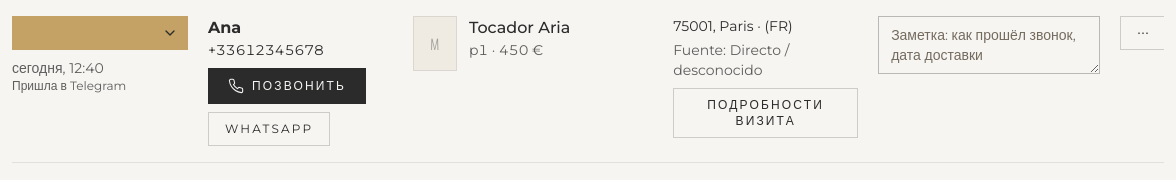
OrderRow — the owner’s note › saves on leaving the field
This screenshot has width=1176, height=180.
Type "перезвонить после 18:00" into the text box named "Заметка к заявке от Ana" at (989, 45), box [878,16,1100,74]
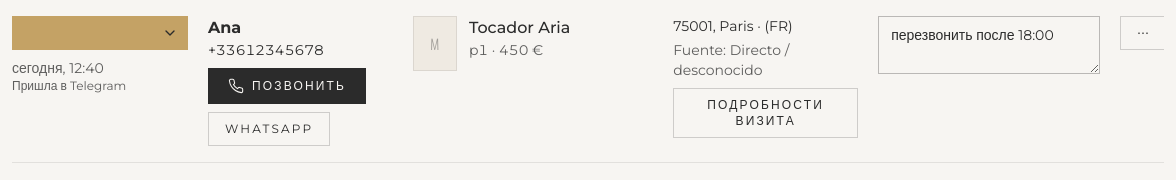
Leave the text box named "Заметка к заявке от Ana", box [878,16,1100,74]
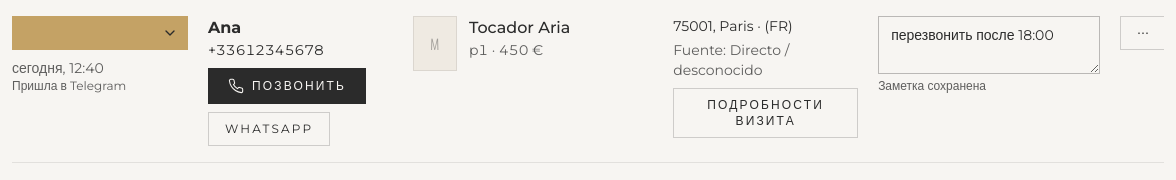
Expected: the text "Заметка сохранена" is shown, [878,78,986,93]
